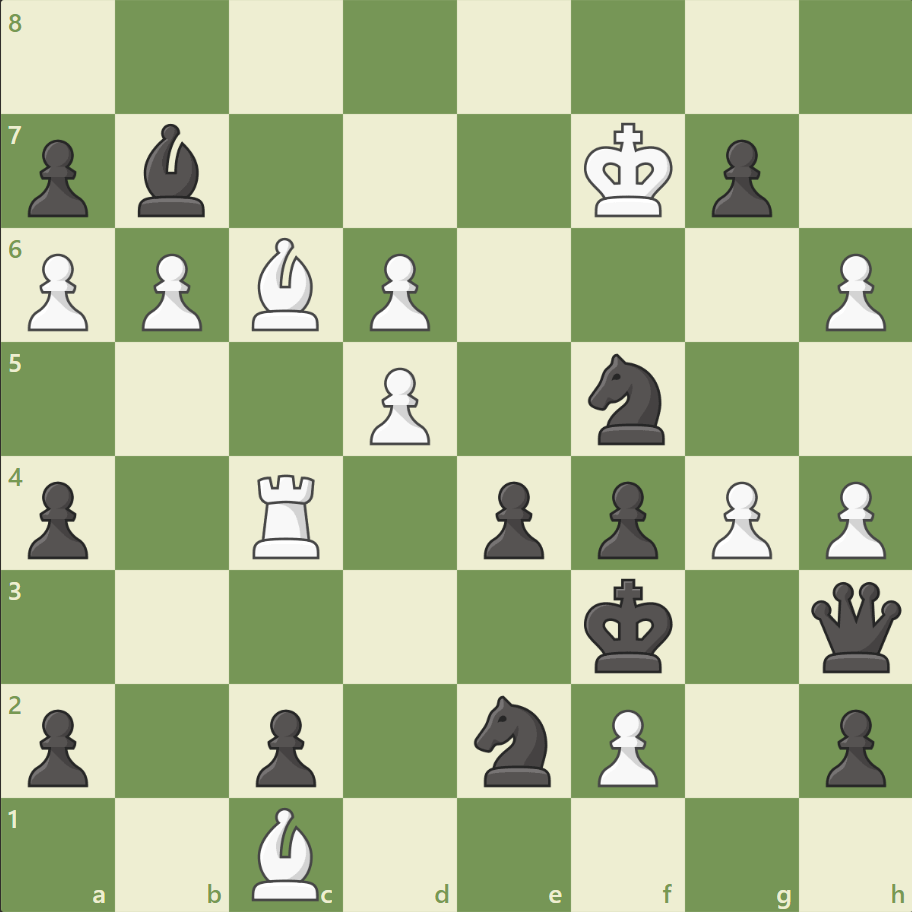B: (244, 233, 328, 336), (244, 801, 328, 904)
K: (579, 117, 679, 225)
P: (20, 246, 95, 337), (133, 246, 208, 337), (701, 473, 776, 564), (361, 246, 435, 337), (815, 246, 889, 337), (361, 359, 435, 450), (815, 473, 889, 564), (588, 700, 662, 791)
R: (246, 466, 329, 563)
b: (131, 120, 215, 222)
k: (579, 571, 679, 679)
n: (465, 688, 562, 791), (579, 348, 676, 450)
p: (20, 132, 95, 223), (701, 132, 776, 223), (20, 473, 95, 564), (474, 473, 549, 564), (20, 700, 95, 791), (247, 700, 322, 791), (588, 473, 662, 564), (815, 700, 889, 791)
q: (805, 576, 904, 676)
